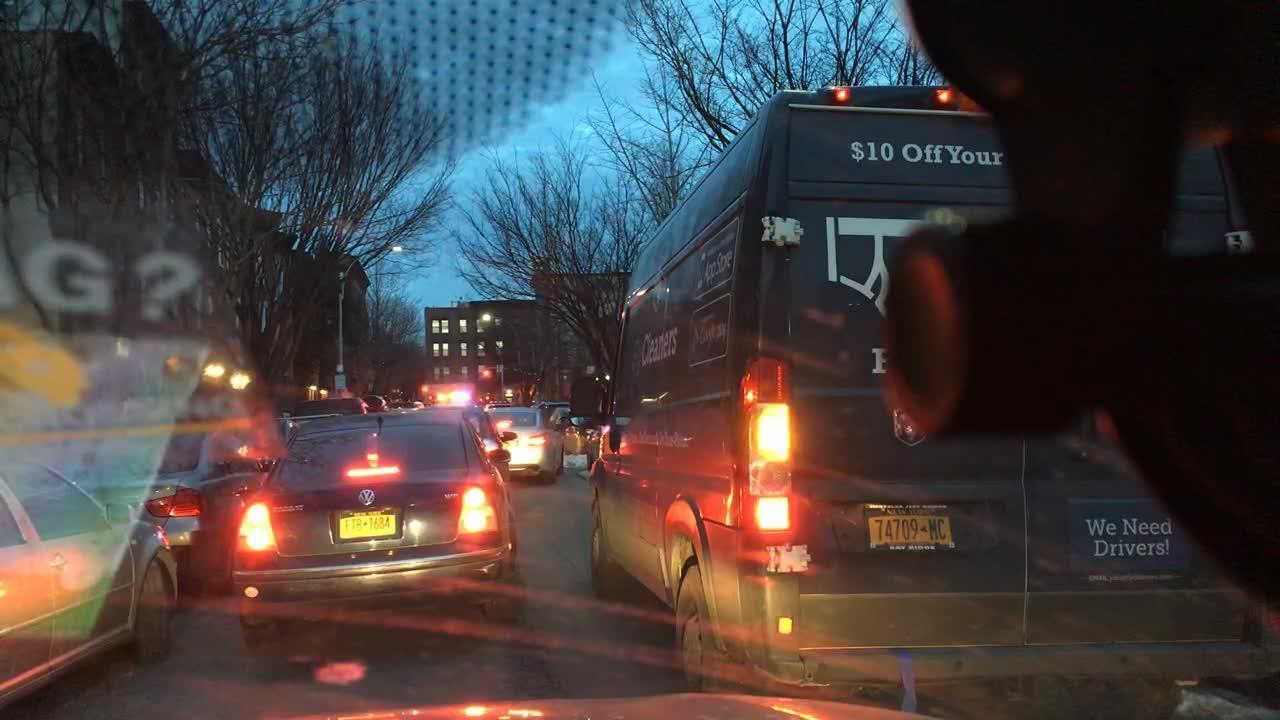Volkswagen: (353, 484, 386, 509)
